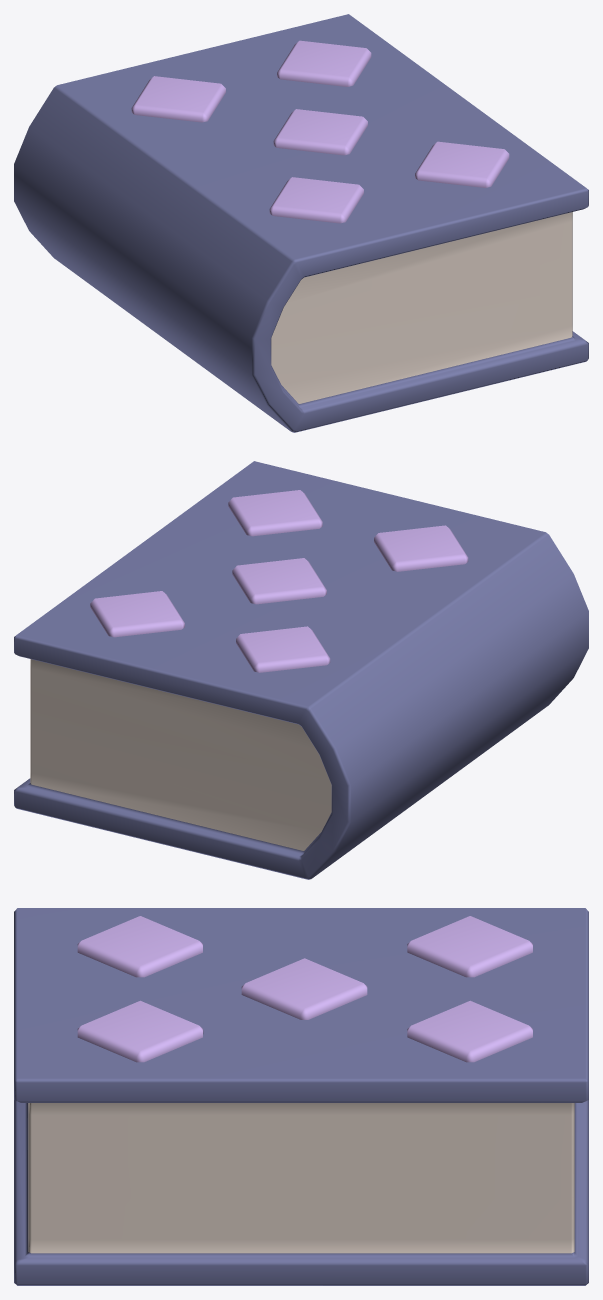
The model's file is Book_21.glb.
3 views of the same model, one above another, from view 1: azimuth 30°, elevation 25°; view 2: azimuth 150°, elevation 25°; view 3: azimuth 270°, elevation 25° (orthographic). The views are drawn at different scales.
Parts seen in each view (by area): view 1: Book_21; view 2: Book_21; view 3: Book_21.
Boxes of the visible parts, box(x1,y1,x2,y2) form: Book_21: box(14, 14, 588, 432); Book_21: box(14, 461, 588, 879); Book_21: box(14, 908, 588, 1285).
Size of the model in its own units: 0.2535 by 0.1309 by 0.3131.
1 material, 1 textured.
